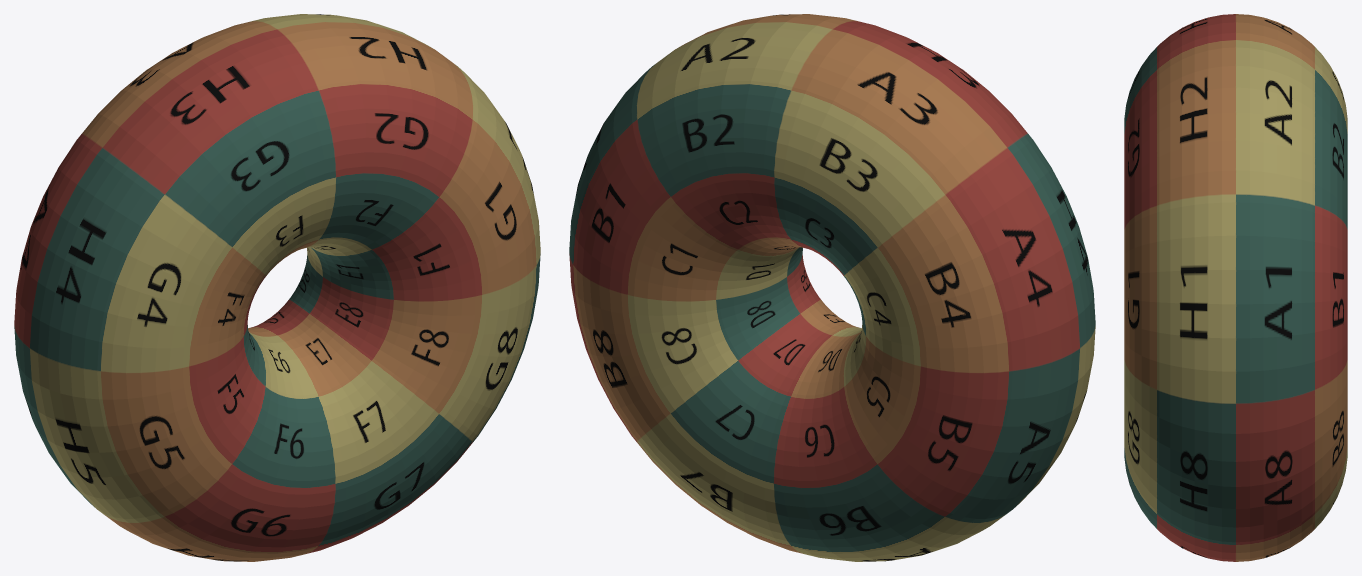
Rendered from texture_torus_R5_r27.glb.
The picture shows the model from 3 angles, left to right: view 1: azimuth 30°, elevation 25°; view 2: azimuth 150°, elevation 25°; view 3: azimuth 270°, elevation 25°; orthographic projection. The views are drawn at different scales.
Visible parts, largest first — view 1: world; view 2: world; view 3: world.
Part boxes in pixels (bbox=[...]): world: bbox=[14, 14, 540, 561]; world: bbox=[569, 14, 1095, 561]; world: bbox=[1124, 14, 1347, 561].
Size of the model in its own units: 22.53 by 22.49 by 9.18.
1 material, 1 textured.
